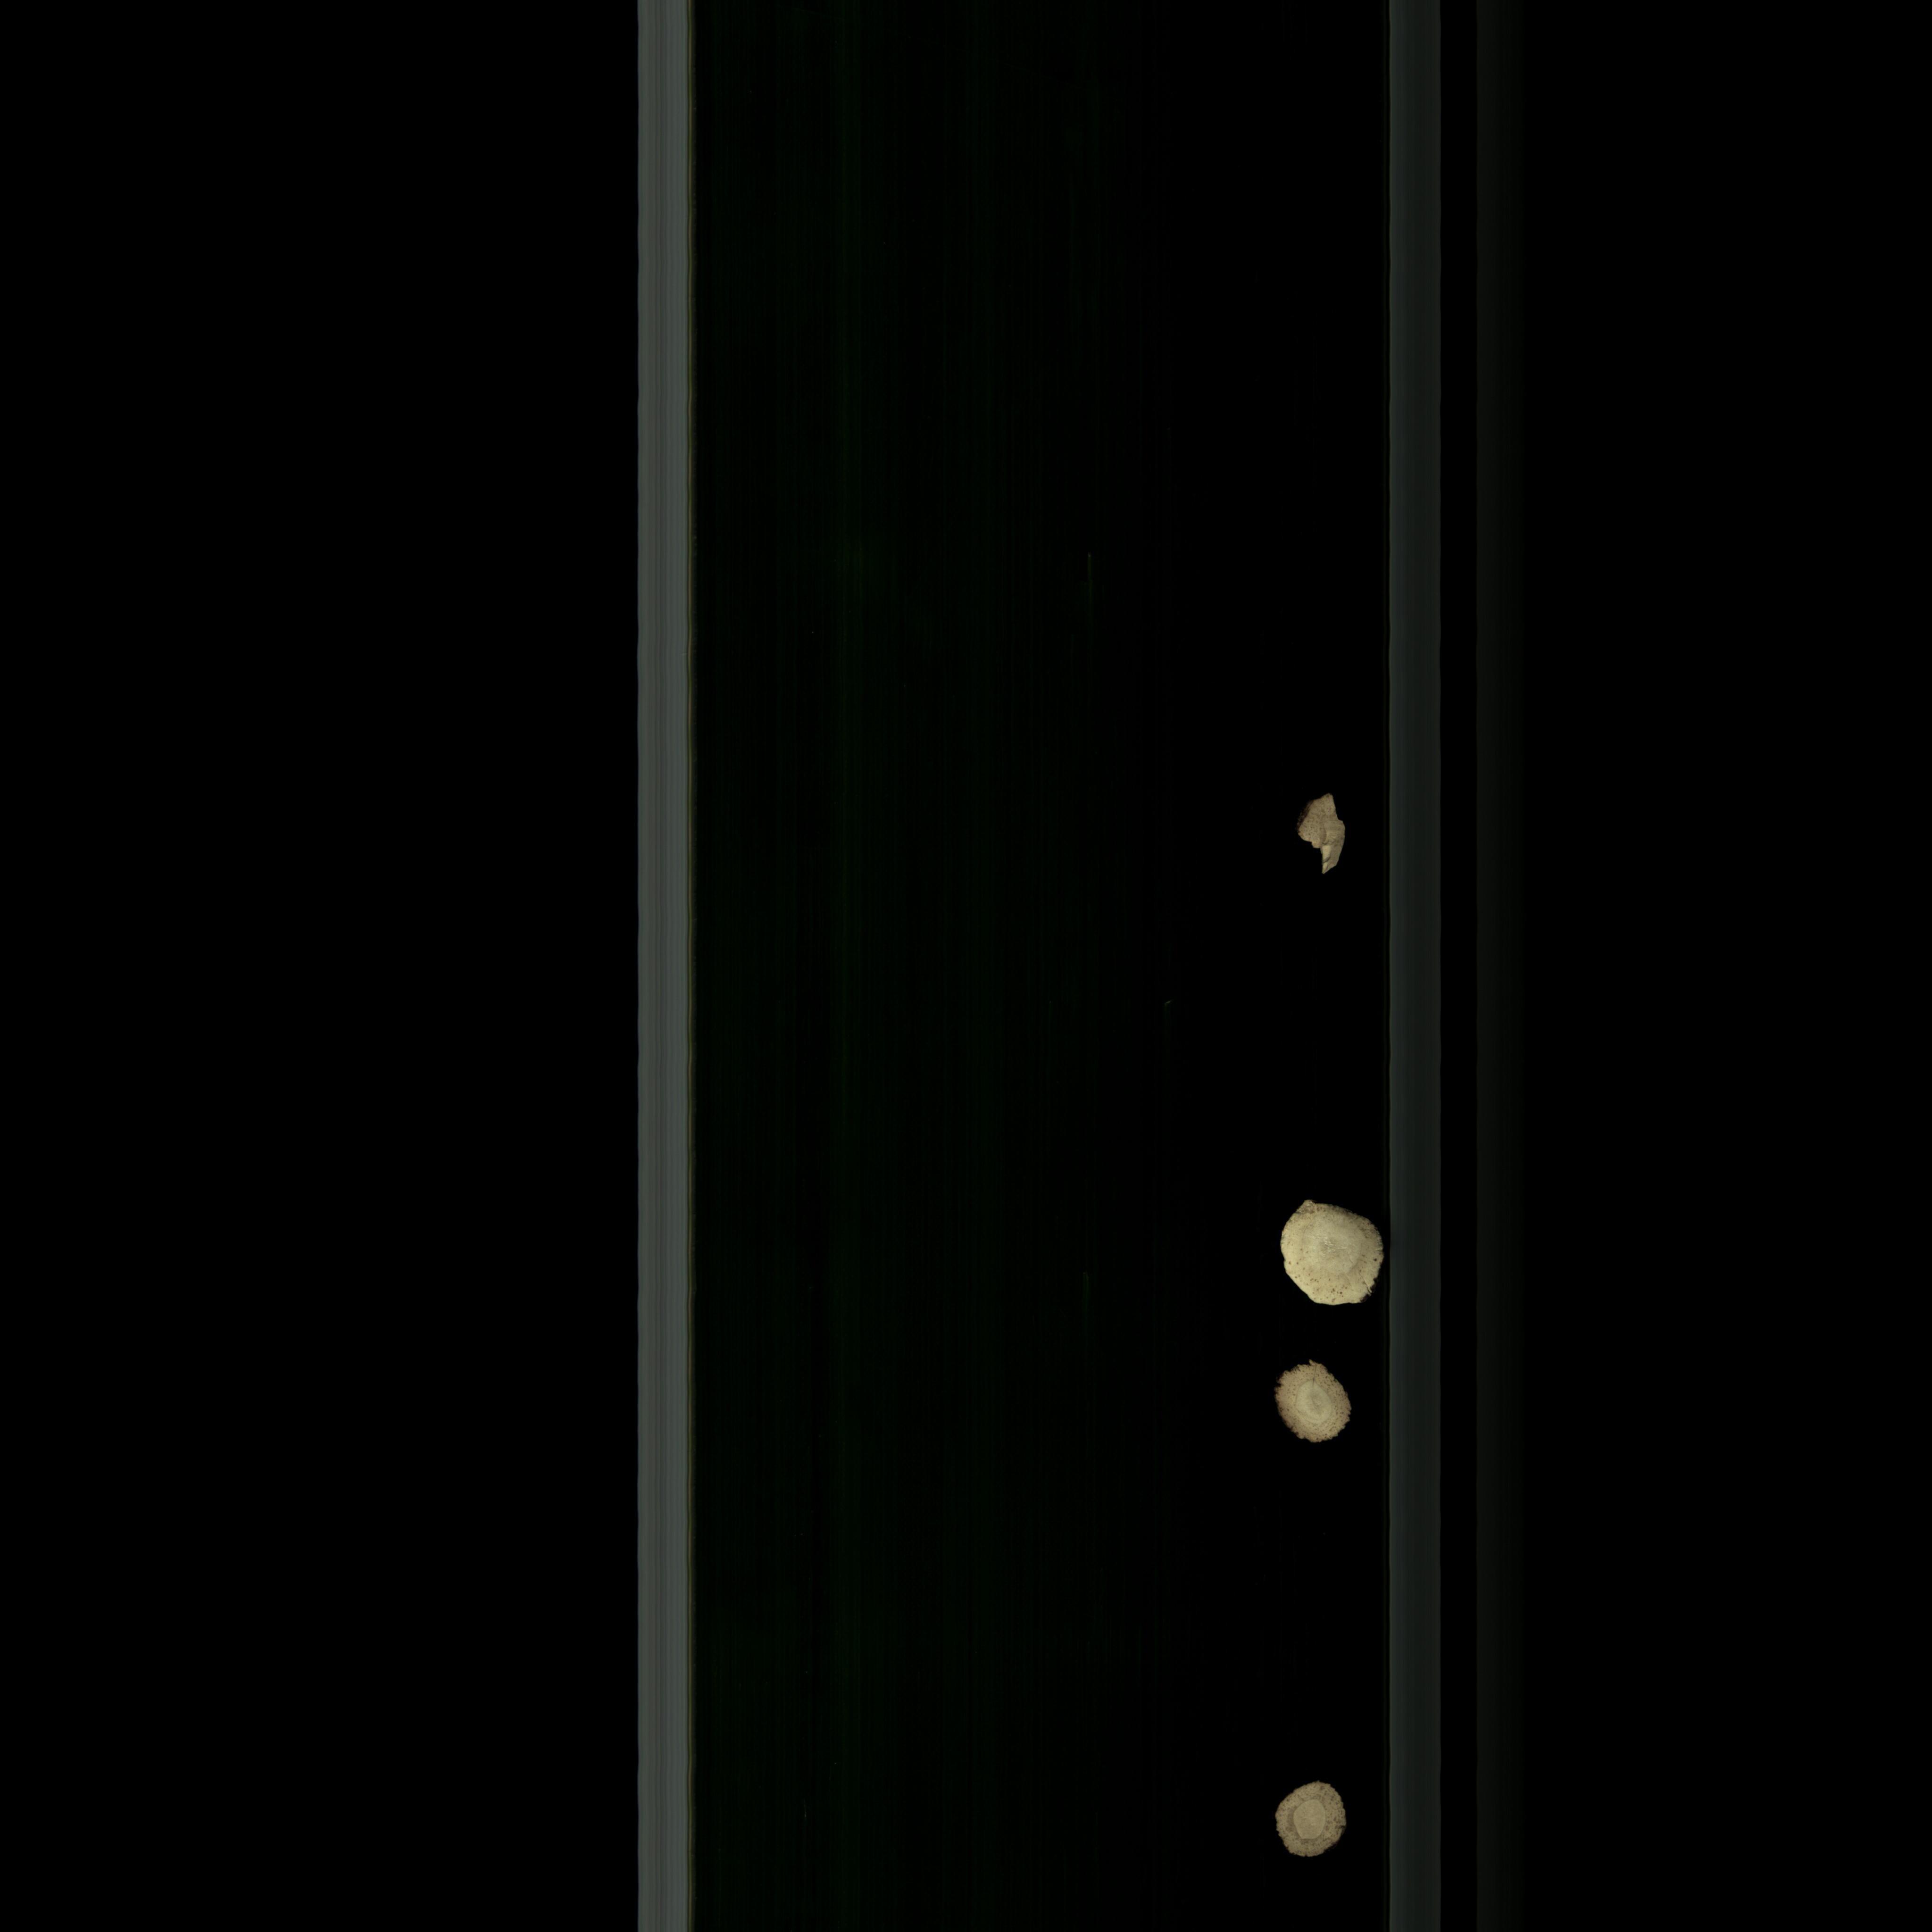debris: (1263, 1198, 1394, 1320), (1293, 786, 1353, 878)
distortion: (1261, 1357, 1362, 1444)
